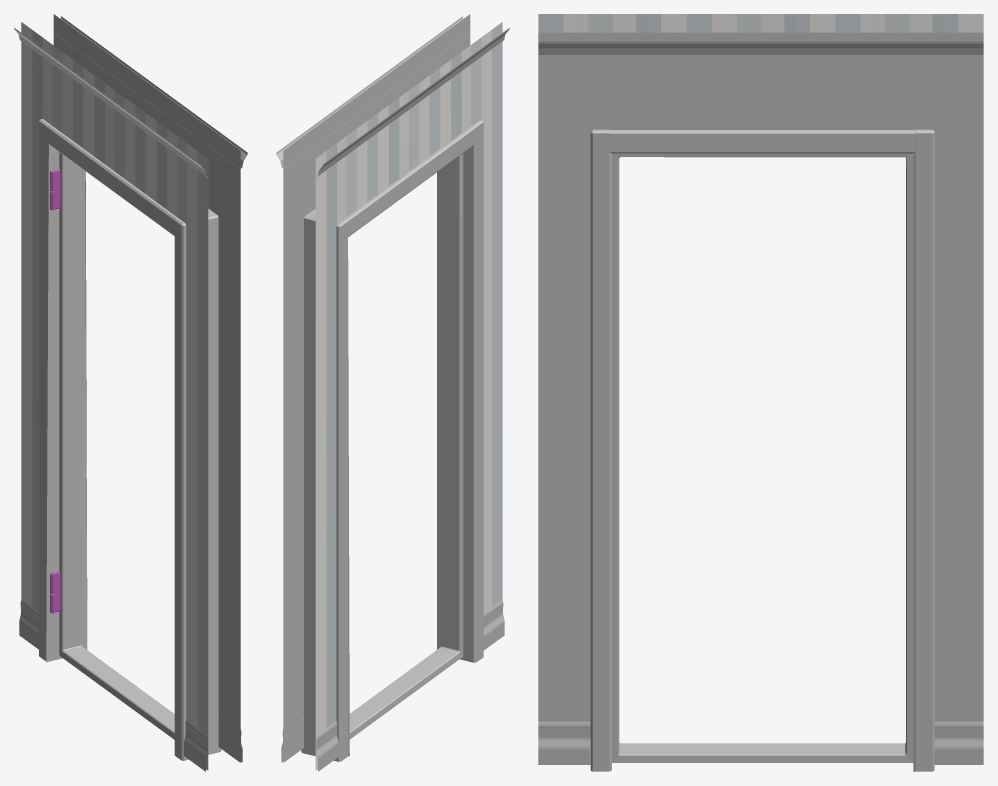
Rendered from Frame_Inside_200.fbx.
3 renders of one model, left to right at view 1: azimuth 30°, elevation 25°; view 2: azimuth 150°, elevation 25°; view 3: azimuth 270°, elevation 25°, orthographic. The views are drawn at different scales.
Visible parts, largest first — view 1: Frame_Inside_200; view 2: Frame_Inside_200; view 3: Frame_Inside_200.
Part boxes in pixels (x1,y1,x2,y2): Frame_Inside_200: (14,14,247,771); Frame_Inside_200: (276,14,509,771); Frame_Inside_200: (538,14,983,771).
Size of the model in its own units: 20.33 by 140 by 256.
